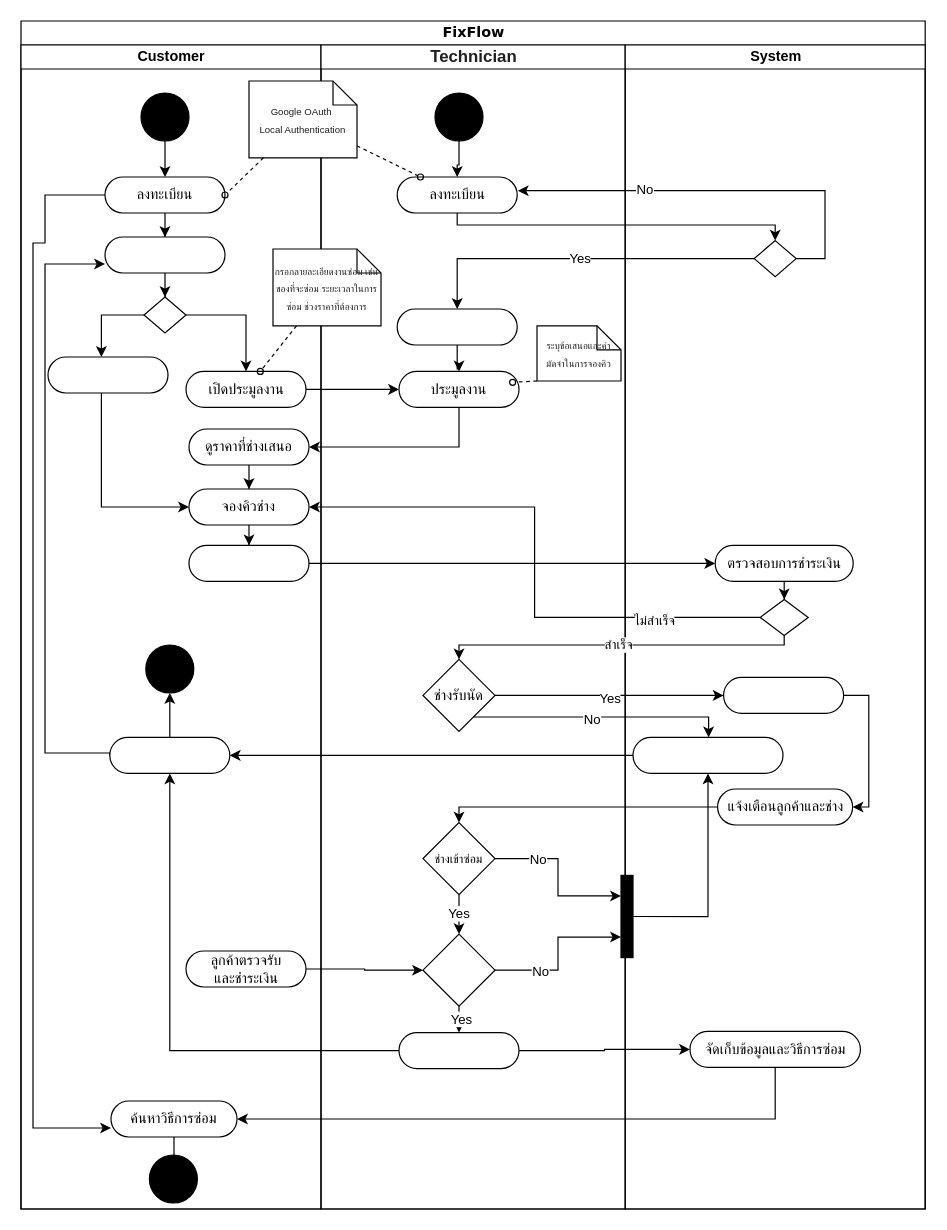
Image size: 947x1230. Some labels were removed from this diagram. Here are the shapes that lost their labels. From the top down, the centre of each, then its label:
At point (164, 254): "ค้นหาช่าง".
At point (774, 258): "KYC".
At point (456, 326): "สร้าง Profile".
At point (107, 374): "ระบุช่างที่ต้องการ".
At point (248, 562): "ชำระเงินมัดจำ".
At point (783, 694): "เพิ่มคิวงานให้ช่าง".
At point (169, 754): "Review".
At point (707, 754): "คืนเงินมัดจำลูกค้า".
At point (458, 969): "ซ่อมสำเร็จ".
At point (458, 1050): "ช่างบันทึกการซ่อม".
